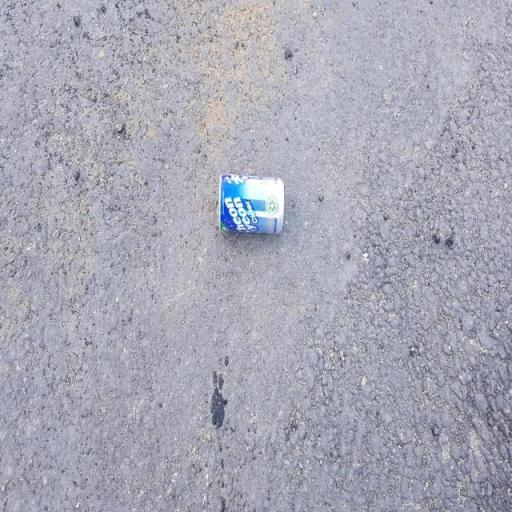metal: (208, 163, 298, 259)
